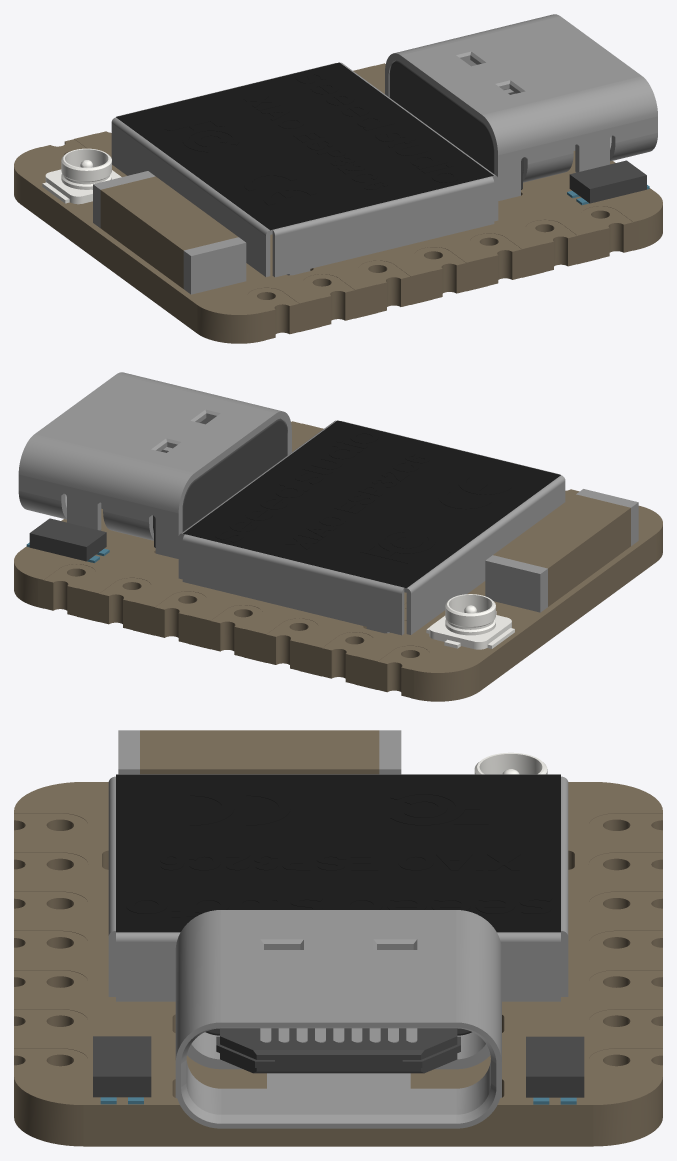
Rendered from seeed-studio-xiao-esp32c6-v2.glb.
The picture shows the model from 3 angles, top to bottom: view 1: azimuth 30°, elevation 25°; view 2: azimuth 150°, elevation 25°; view 3: azimuth 270°, elevation 25°; orthographic projection. The views are drawn at different scales.
Parts seen in each view (by area): view 1: SOLID, XIAO component 42, CHAMFER9, Shield, XIAO component 41, CUT-EXTRUDE5, XIAO component 44, U.FL-R-SMT-1_10_ v1, Body, XIAO component 43; view 2: SOLID, XIAO component 42, CHAMFER9, Shield, XIAO component 41, CUT-EXTRUDE5, U.FL-R-SMT-1_10_ v1, XIAO component 43, Body, XIAO component 44; view 3: SOLID, XIAO component 42, CHAMFER9, Shield, XIAO component 41, MIRROR2, Body (×2), U.FL-R-SMT-1_10_ v1, XIAO component 43, XIAO component 44.
Part boxes in pixels (x1,y1,x2,y2): SOLID: [14, 63, 662, 343]; XIAO component 42: [116, 62, 493, 230]; CHAMFER9: [385, 14, 657, 200]; Shield: [111, 62, 498, 277]; XIAO component 41: [100, 176, 238, 288]; CUT-EXTRUDE5: [389, 60, 523, 189]; XIAO component 44: [183, 237, 246, 294]; U.FL-R-SMT-1_10_ v1: [42, 148, 121, 204]; Body: [569, 160, 646, 203]; XIAO component 43: [93, 171, 155, 227]; SOLID: [14, 421, 662, 701]; XIAO component 42: [183, 420, 560, 587]; CHAMFER9: [18, 372, 291, 558]; Shield: [178, 420, 565, 635]; XIAO component 41: [493, 494, 630, 606]; CUT-EXTRUDE5: [153, 418, 286, 547]; U.FL-R-SMT-1_10_ v1: [426, 594, 514, 649]; XIAO component 43: [485, 555, 547, 612]; Body: [29, 518, 106, 561]; XIAO component 44: [576, 489, 638, 545]; SOLID: [14, 782, 662, 1146]; XIAO component 42: [116, 774, 560, 932]; CHAMFER9: [175, 910, 501, 1128]; Shield: [108, 774, 568, 1001]; XIAO component 41: [140, 730, 379, 774]; MIRROR2: [216, 1028, 460, 1073]; Body (×2): [93, 1036, 584, 1097]; U.FL-R-SMT-1_10_ v1: [474, 752, 547, 774]; XIAO component 43: [379, 730, 401, 774]; XIAO component 44: [118, 730, 139, 774].
Bounding box in the file's own units: 22.48 × 4.46 × 17.78.
